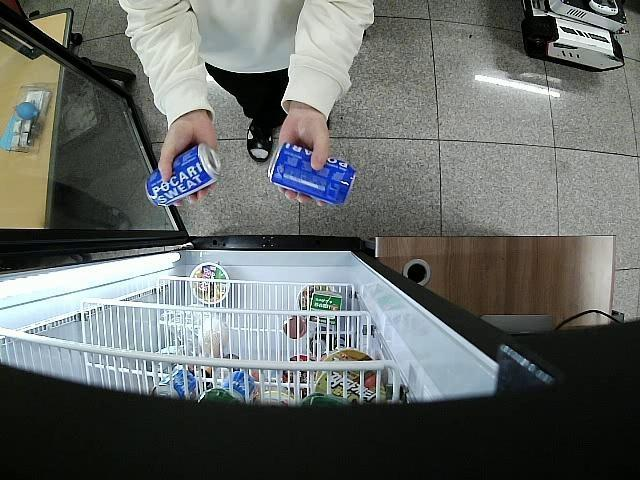13_pocariSweat: (268, 143, 358, 208), (146, 145, 220, 204)
